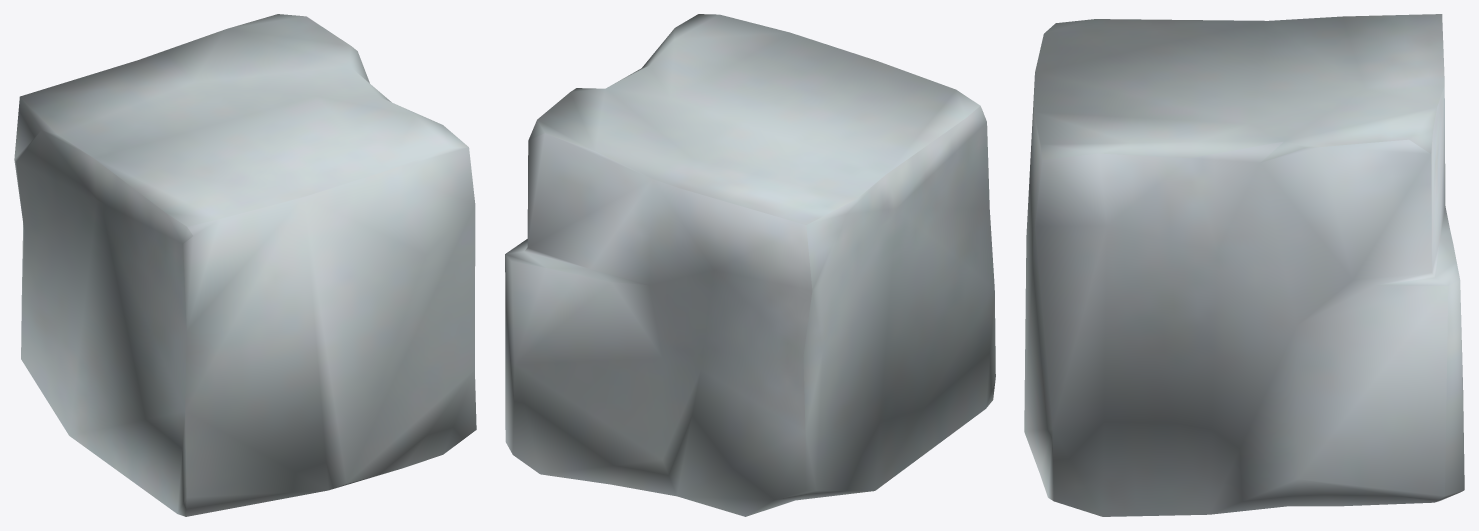
The model's file is P_RockCubic10.obj.
3 views of the same model, side by side, from view 1: azimuth 30°, elevation 25°; view 2: azimuth 150°, elevation 25°; view 3: azimuth 270°, elevation 25° (orthographic). The views are drawn at different scales.
Bounding box in the file's own units: 3.3 × 3.4 × 3.67.
